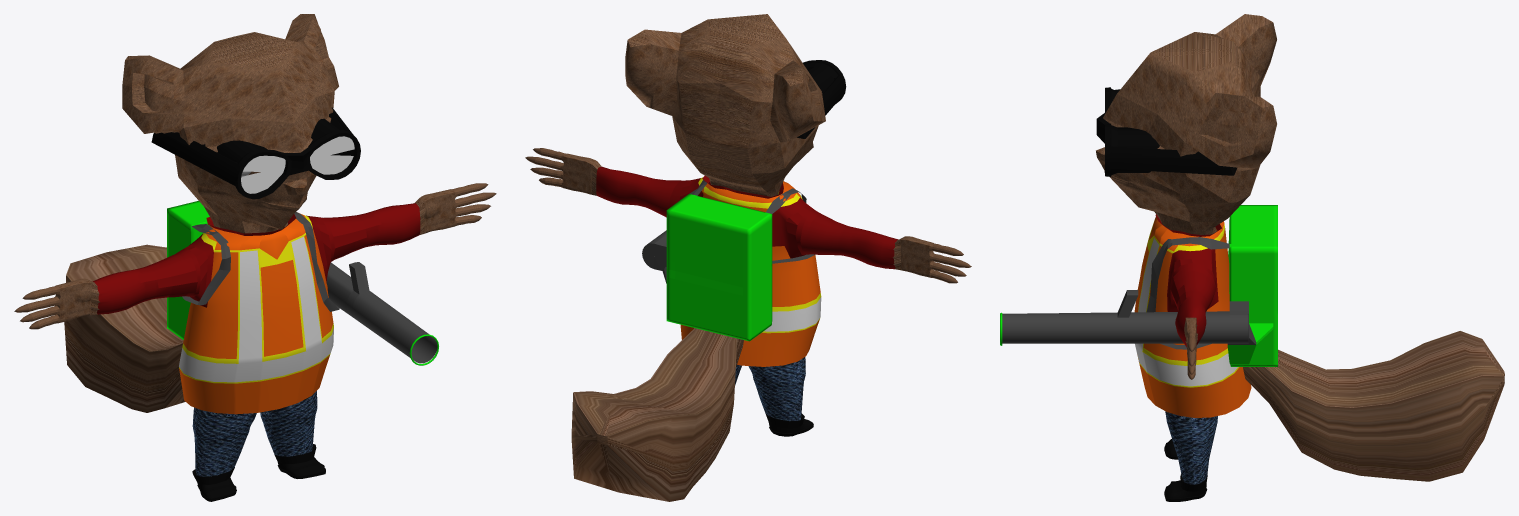
File: 05.03.18_Version2.fbx
The picture shows the model from 3 angles, left to right: view 1: azimuth 30°, elevation 25°; view 2: azimuth 150°, elevation 25°; view 3: azimuth 270°, elevation 25°; orthographic projection. The views are drawn at different scales.
Parts seen in each view (by area): view 1: Legs1; view 2: Legs1; view 3: Legs1.
Boxes of the visible parts, x1,y1,x2,y2 form: Legs1: (14,14,496,501); Legs1: (525,14,971,501); Legs1: (1000,14,1504,501).
Size of the model in its own units: 11.43 by 9.66 by 10.45.
14 materials, 3 textured.
